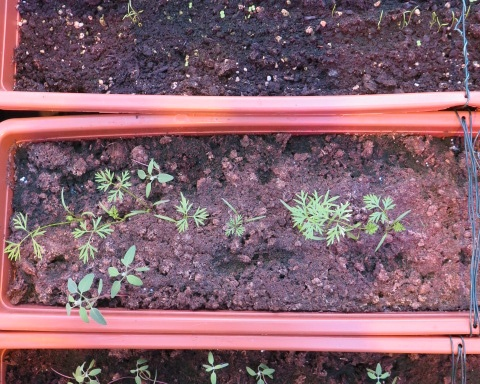crop: (6, 190, 86, 261), (94, 171, 175, 226), (283, 193, 360, 246), (362, 192, 410, 250), (220, 197, 268, 240), (174, 191, 210, 235)
weed: (63, 277, 121, 323), (105, 244, 153, 299), (135, 159, 178, 196), (201, 351, 228, 384), (243, 364, 279, 384), (366, 362, 391, 384)
